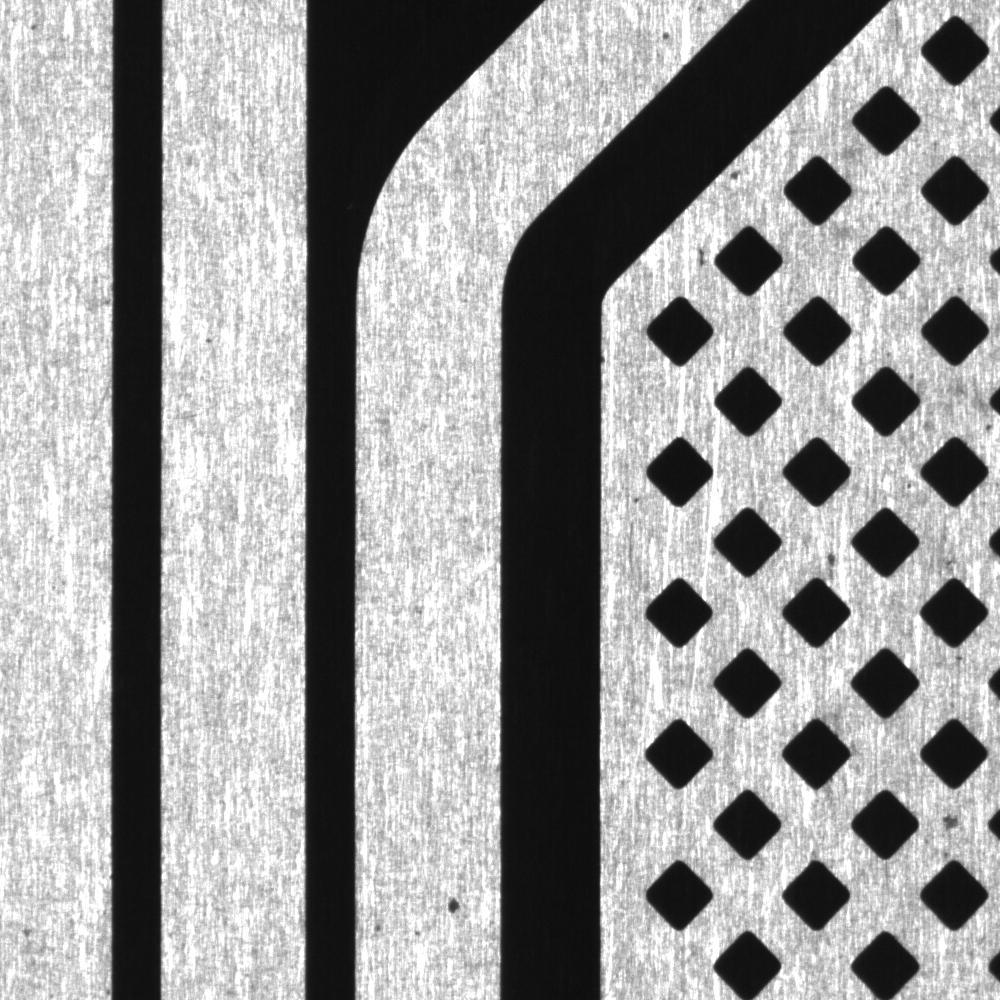Etching: (903, 353, 988, 441), (419, 873, 492, 945), (918, 792, 988, 858), (807, 532, 858, 579), (192, 324, 233, 357)
Pinhole: (650, 13, 686, 51)
